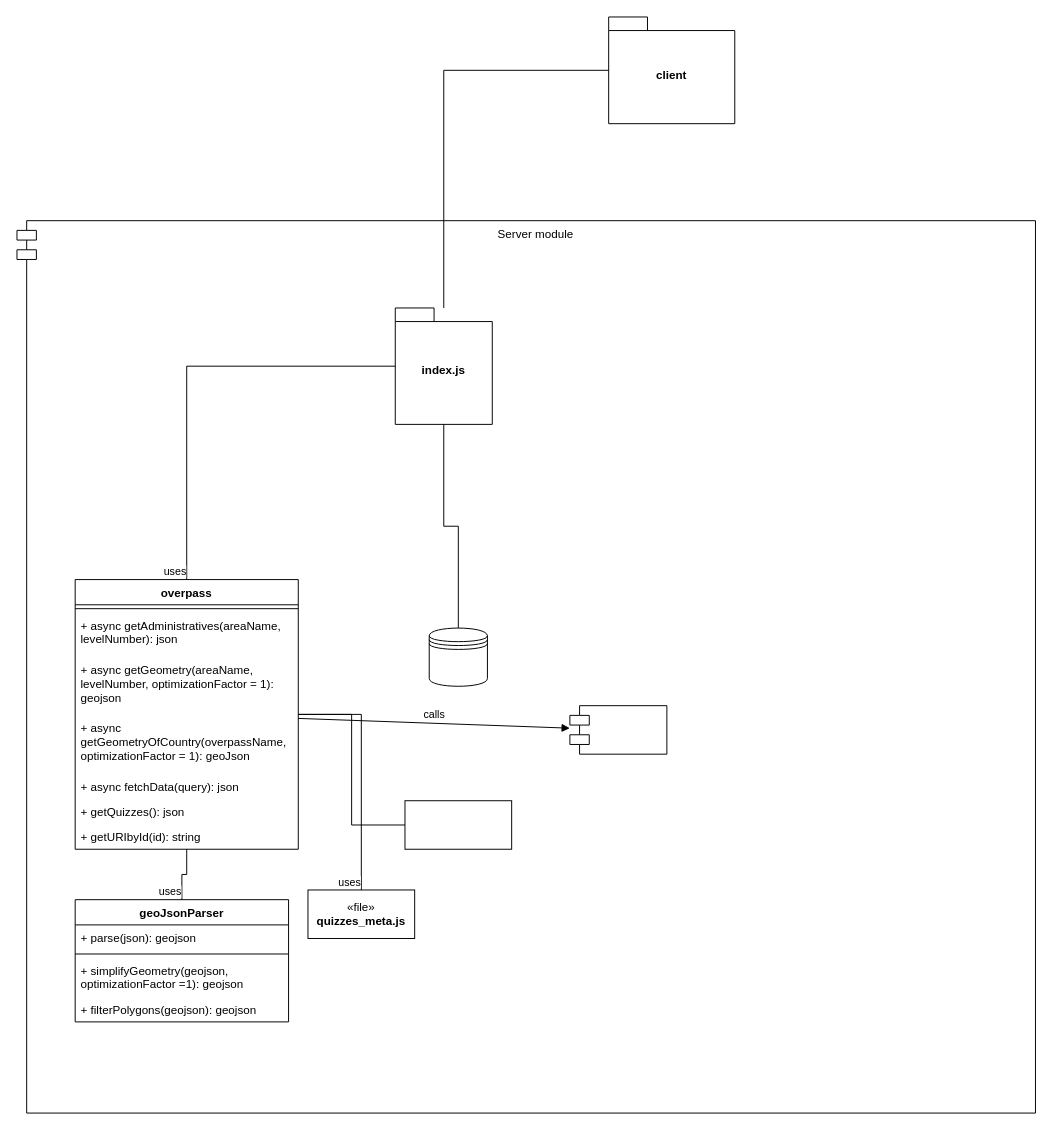
Image size: 1052x1130. Some labels were removed from this diagram. The box of each missing label's shape, as (x1, y1, x2, y2) in pixels:
mySql database: (428, 627, 487, 686)
Server overpassAPI: (569, 705, 667, 754)
«file» queries: (404, 800, 512, 849)
